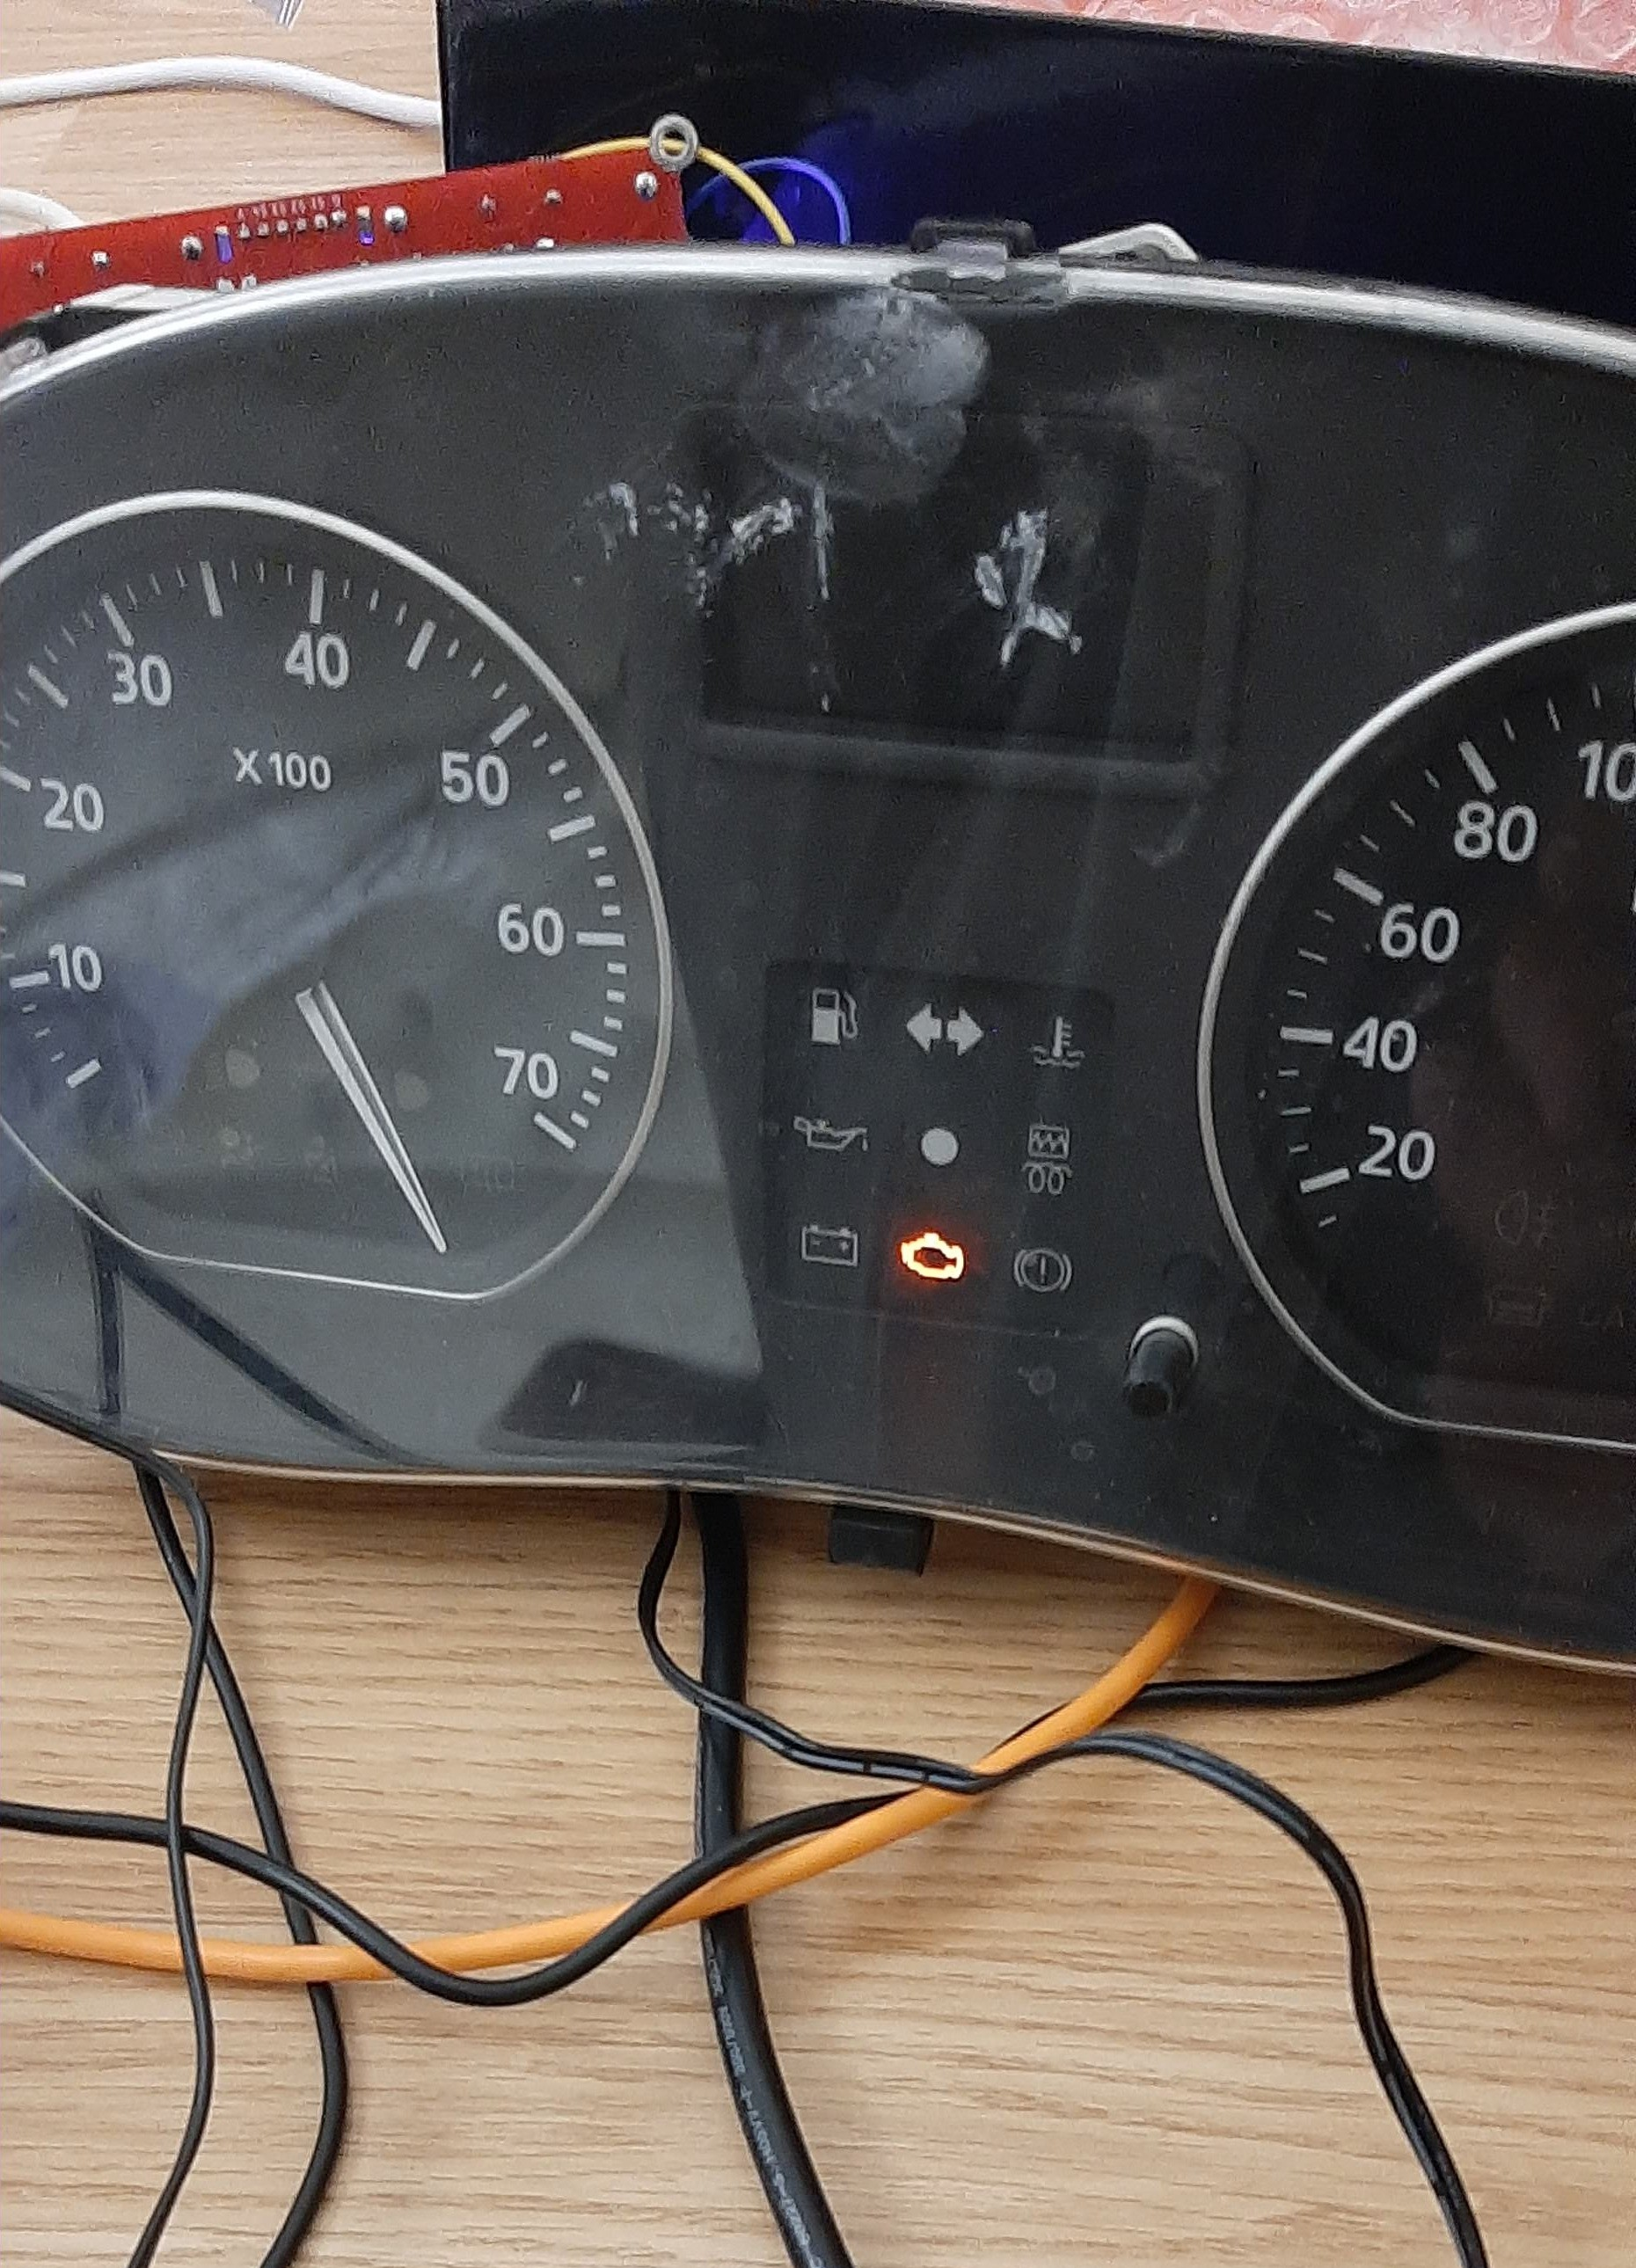engine26: (898, 1231, 967, 1282)
